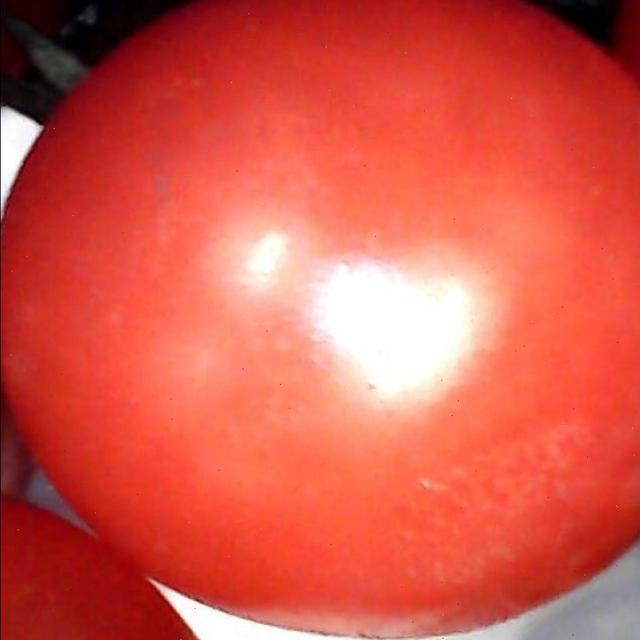Healthy Fruit: (1, 3, 427, 424)
